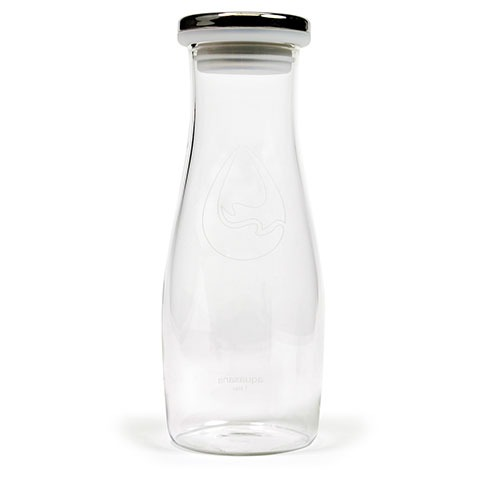container: (167, 5, 326, 460)
